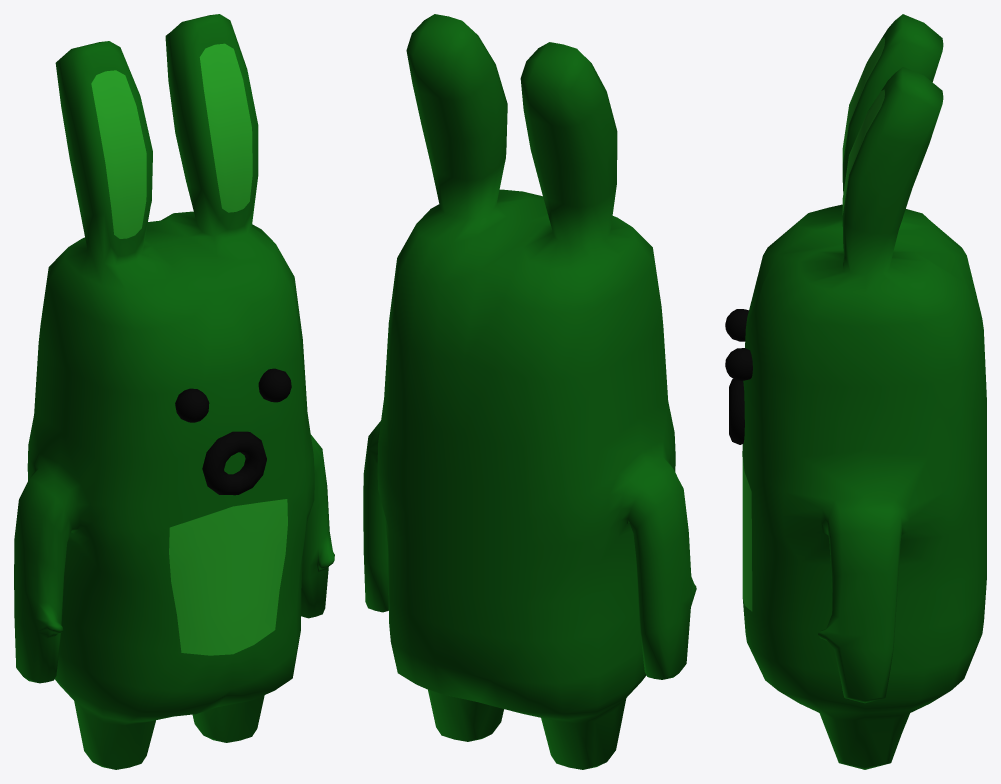
File: SM_CreaturePlush.glb
The picture shows the model from 3 angles, left to right: view 1: azimuth 30°, elevation 25°; view 2: azimuth 150°, elevation 25°; view 3: azimuth 270°, elevation 25°; orthographic projection. The views are drawn at different scales.
Parts seen in each view (by area): view 1: Creature.001; view 2: Creature.001; view 3: Creature.001.
Part boxes in pixels (x1,y1,x2,y2): Creature.001: (14, 14, 334, 769); Creature.001: (363, 14, 696, 769); Creature.001: (725, 14, 986, 769).
Size of the model in its own units: 0.8631 by 1.96 by 0.6729.
